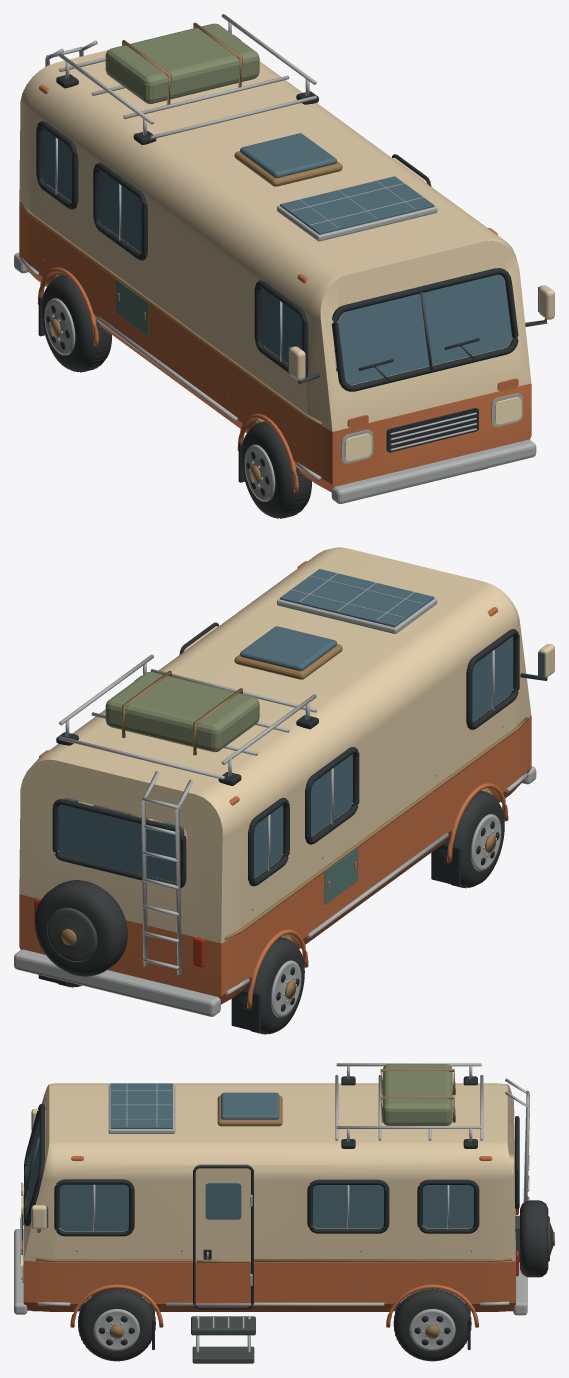
File: rv-polish.fbx
3 views of the same model, one above another, from view 1: azimuth 30°, elevation 25°; view 2: azimuth 150°, elevation 25°; view 3: azimuth 270°, elevation 25° (orthographic). The views are drawn at different scales.
Visible parts, largest first — view 1: GEO-coach_body_shell, GEO-windscreen, GEO-roof_storage_case, GEO-solar_panel, GEO-front_bumper, GEO-windscreen_seal, GEO-road_tyre.001, GEO-road_tyre, GEO-roof_skylight_lid, GEO-window_glass.001, GEO-window_glass, GEO-front_grille_recess (+17 smaller); view 2: GEO-coach_body_shell, GEO-roof_storage_case, GEO-rear_window_glass, GEO-spare_tyre, GEO-solar_panel, GEO-rear_bumper, GEO-roof_skylight_lid, GEO-road_tyre.001, GEO-road_tyre, GEO-window_glass, GEO-window_glass.001, GEO-rear_window_seal (+19 smaller); view 3: GEO-coach_body_shell, GEO-entry_door, GEO-roof_storage_case, GEO-window_glass.003, GEO-window_glass.004, GEO-road_tyre.002, GEO-road_tyre.003, GEO-solar_panel, GEO-window_glass.005, GEO-spare_tyre, GEO-roof_skylight_lid, GEO-window_rubber.003 (+24 smaller).
Boxes of the visible parts, box(x1,y1,x2,y2) form: GEO-coach_body_shell: box(19, 50, 531, 492); GEO-windscreen: box(336, 274, 511, 384); GEO-roof_storage_case: box(105, 23, 259, 103); GEO-solar_panel: box(280, 176, 434, 234); GEO-front_bumper: box(331, 439, 536, 503); GEO-windscreen_seal: box(331, 268, 518, 391); GEO-road_tyre.001: box(41, 275, 111, 371); GEO-road_tyre: box(241, 422, 311, 518); GEO-roof_skylight_lid: box(240, 133, 337, 177); GEO-window_glass.001: box(100, 170, 141, 252); GEO-window_glass: box(261, 288, 302, 363); GEO-front_grille_recess: box(386, 408, 478, 452); GEO-coach_body_shell: box(19, 547, 531, 1004); GEO-roof_storage_case: box(105, 671, 259, 752); GEO-rear_window_glass: box(58, 804, 180, 882); GEO-spare_tyre: box(34, 880, 127, 976); GEO-solar_panel: box(280, 569, 434, 627); GEO-rear_bumper: box(14, 949, 220, 1016); GEO-roof_skylight_lid: box(240, 626, 337, 670); GEO-road_tyre.001: box(237, 938, 304, 1033); GEO-road_tyre: box(437, 791, 504, 887); GEO-window_glass: box(472, 636, 513, 721); GEO-window_glass.001: box(311, 754, 352, 836); GEO-rear_window_seal: box(52, 799, 186, 887); GEO-coach_body_shell: box(23, 1083, 515, 1311); GEO-entry_door: box(195, 1168, 250, 1306); GEO-roof_storage_case: box(382, 1064, 452, 1125); GEO-window_glass.003: box(59, 1184, 128, 1230); GEO-window_glass.004: box(313, 1185, 383, 1228); GEO-road_tyre.002: box(78, 1288, 155, 1361); GEO-road_tyre.003: box(394, 1289, 470, 1361); GEO-solar_panel: box(110, 1083, 172, 1128); GEO-window_glass.005: box(423, 1185, 473, 1228); GEO-spare_tyre: box(520, 1200, 548, 1277); GEO-roof_skylight_lid: box(221, 1092, 279, 1119); GEO-window_rubber.003: box(54, 1179, 134, 1236).
Size of the model in its own units: 3.15 by 3.17 by 6.5.
